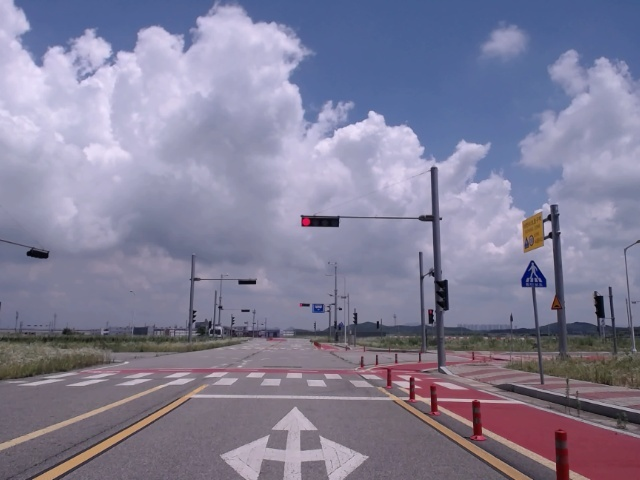red_4: (302, 217, 339, 227)
